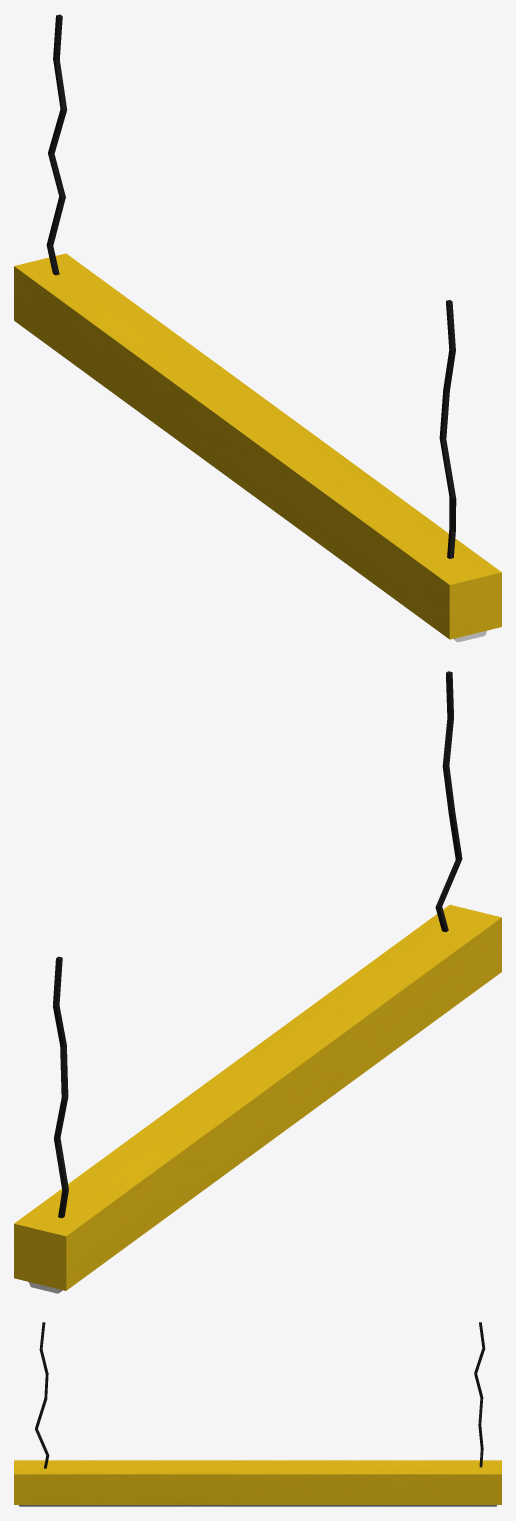
The model's file is SM_LampadaTeto.fbx.
3 views of the same model, one above another, from view 1: azimuth 30°, elevation 25°; view 2: azimuth 150°, elevation 25°; view 3: azimuth 270°, elevation 25° (orthographic). The views are drawn at different scales.
Parts seen in each view (by area): view 1: SM_LampadaTeto; view 2: SM_LampadaTeto; view 3: SM_LampadaTeto.
Part boxes in pixels (box(x1,y1,x2,y2)): SM_LampadaTeto: box(14, 14, 501, 642); SM_LampadaTeto: box(14, 671, 501, 1293); SM_LampadaTeto: box(14, 1322, 501, 1506).
Bounding box in the file's own units: 7.88 × 46.4 × 114.
